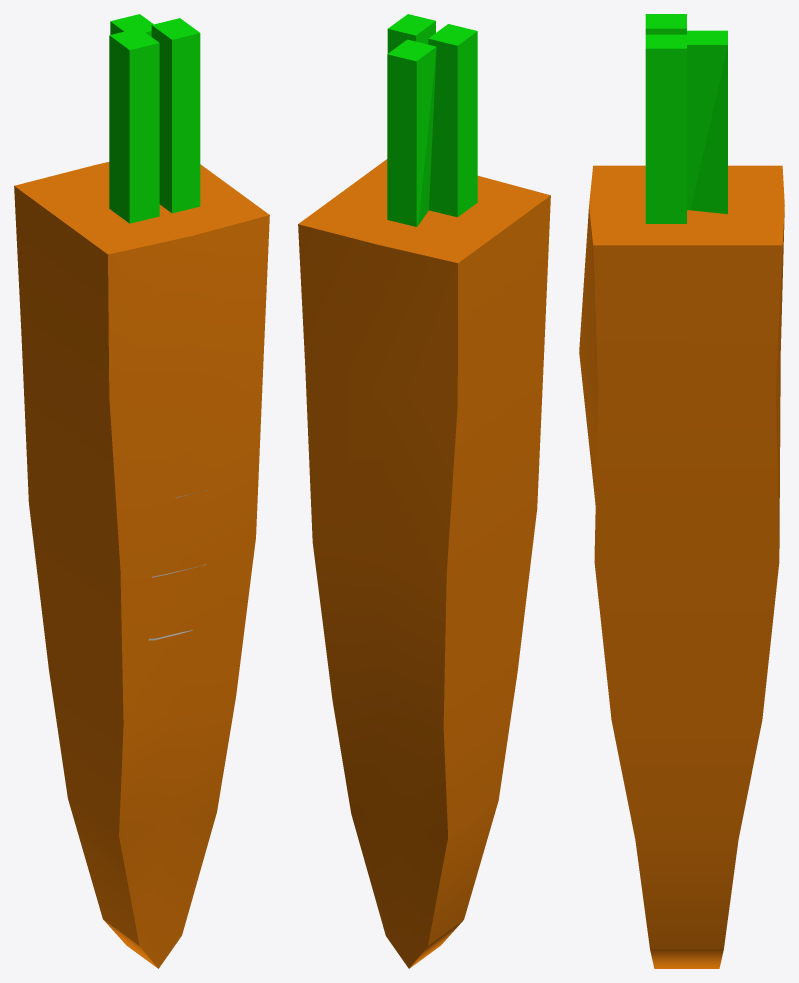
File: ninnjinn.fbx
3 renders of one model, left to right at view 1: azimuth 30°, elevation 25°; view 2: azimuth 150°, elevation 25°; view 3: azimuth 270°, elevation 25°, orthographic. The views are drawn at different scales.
Parts seen in each view (by area): view 1: pCube1, pCube2; view 2: pCube1, pCube2; view 3: pCube1, pCube2.
Part boxes in pixels (left/top/right/bottom): pCube1: left=14, top=162, right=269, bottom=968; pCube2: left=109, top=14, right=200, bottom=223; pCube1: left=298, top=159, right=550, bottom=968; pCube2: left=387, top=14, right=477, bottom=226; pCube1: left=579, top=165, right=784, bottom=968; pCube2: left=645, top=14, right=727, bottom=223.
Size of the model in its own units: 0.5552 by 3.05 by 0.6051.
